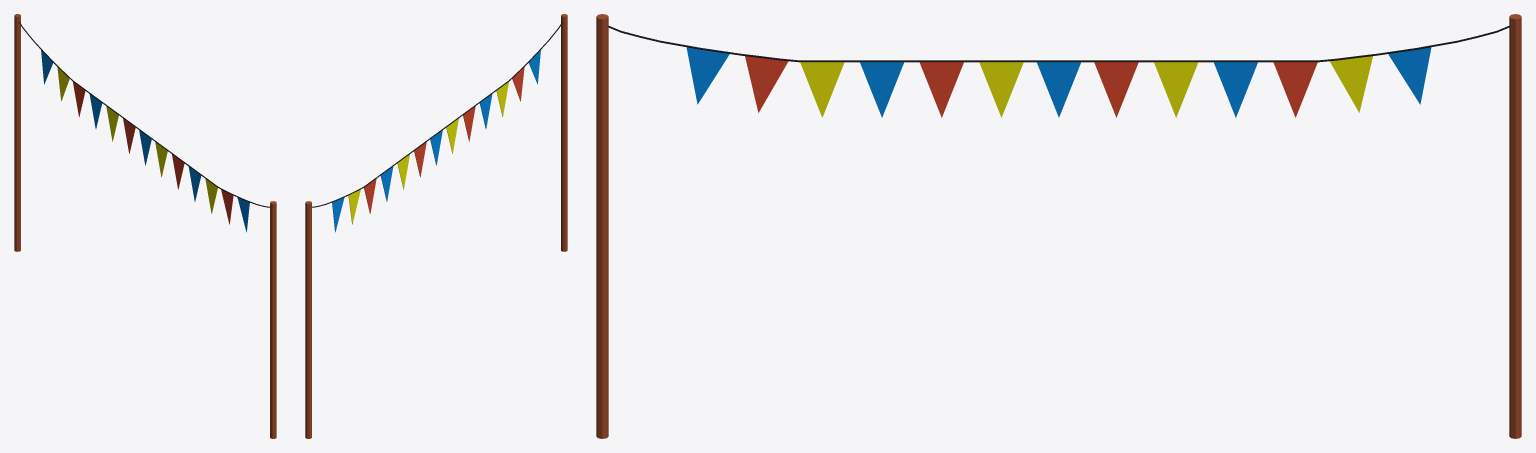
File: banderitas.fbx
The picture shows the model from 3 angles, left to right: view 1: azimuth 30°, elevation 25°; view 2: azimuth 150°, elevation 25°; view 3: azimuth 270°, elevation 25°; orthographic projection. The views are drawn at different scales.
Parts seen in each view (by area): view 1: banderitas; view 2: banderitas; view 3: banderitas.
Part boxes in pixels (x1,y1,x2,y2): banderitas: (14, 14, 276, 438); banderitas: (305, 14, 567, 438); banderitas: (596, 14, 1521, 438).
Size of the model in its own units: 0.2331 by 8.62 by 17.22.
